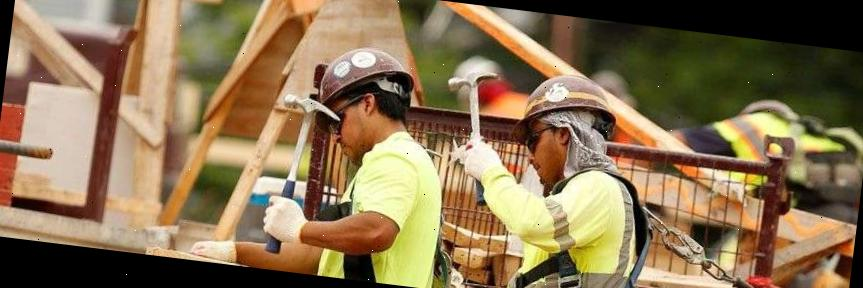helmet: (312, 41, 420, 144), (508, 69, 617, 156)
wear: (505, 170, 651, 288)
